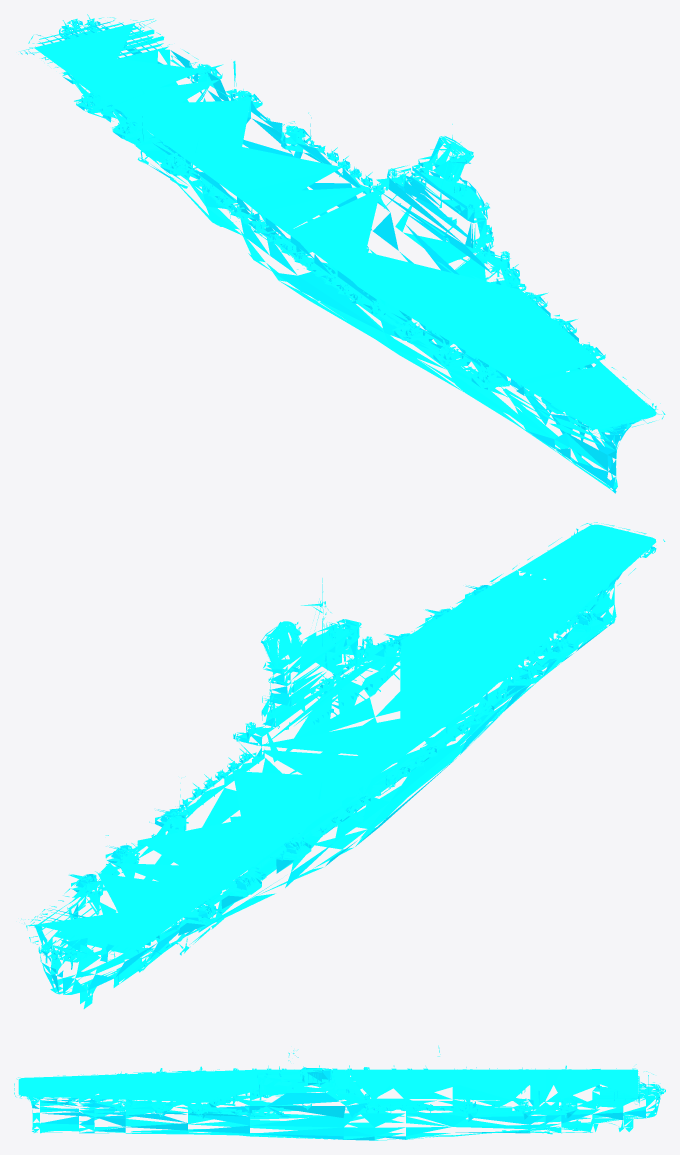
Rendered from Hakuryu.glb.
The picture shows the model from 3 angles, top to bottom: view 1: azimuth 30°, elevation 25°; view 2: azimuth 150°, elevation 25°; view 3: azimuth 270°, elevation 25°; orthographic projection. The views are drawn at different scales.
Bounding box in the file's own units: 3.48 × 3.66 × 19.32.
